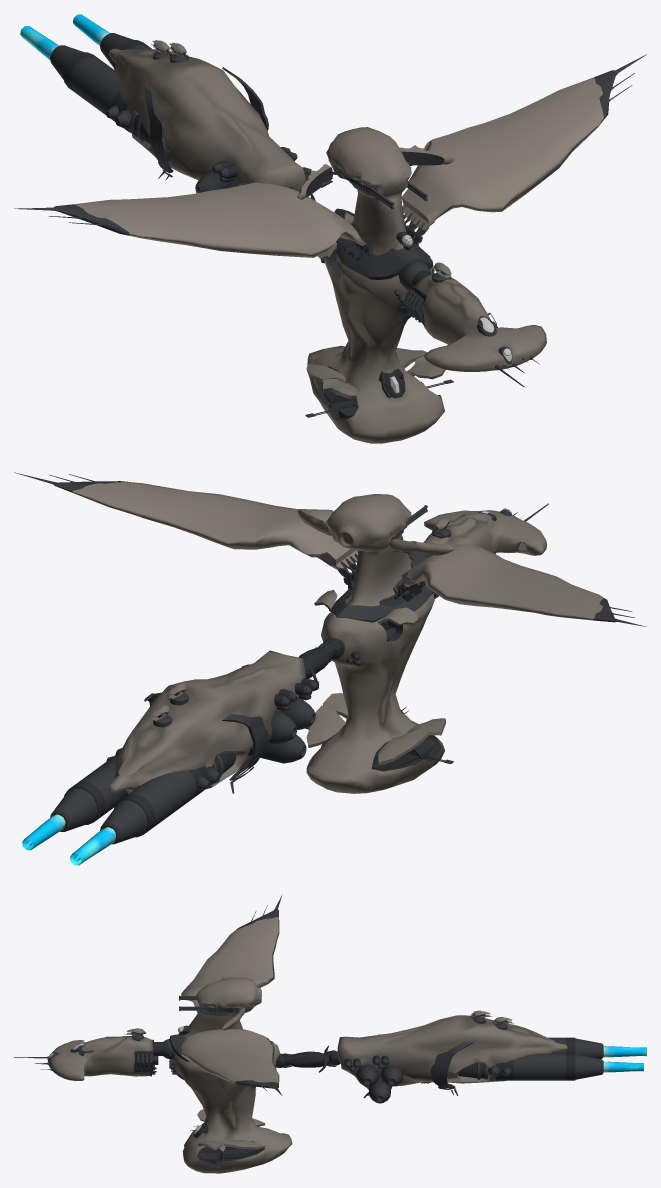
Rendered from CDR_TFA_Spirit_LowRes.fbx.
3 renders of one model, top to bottom at view 1: azimuth 30°, elevation 25°; view 2: azimuth 150°, elevation 25°; view 3: azimuth 270°, elevation 25°, orthographic. The views are drawn at different scales.
Visible parts, largest first — view 1: mesh_hull, mesh_wing_left, mesh_wing_right, mesh_vfx_thrusters, mesh_door_middle_01_left, mesh_door_middle_01_right; view 2: mesh_hull, mesh_wing_left, mesh_wing_right, mesh_vfx_thrusters, mesh_door_bottom_02_left, mesh_door_bottom_02_right, mesh_door_middle_01_right; view 3: mesh_hull, mesh_wing_left, mesh_wing_right, mesh_vfx_thrusters.
Boxes of the visible parts, x1=… form: mesh_hull: x1=50, y1=33, x2=546, y2=443; mesh_wing_left: x1=401, y1=54, x2=646, y2=230; mesh_wing_right: x1=14, y1=182, x2=365, y2=257; mesh_vfx_thrusters: x1=20, y1=14, x2=109, y2=59; mesh_door_middle_01_left: x1=399, y1=145, x2=454, y2=165; mesh_door_middle_01_right: x1=297, y1=164, x2=338, y2=199; mesh_hull: x1=50, y1=494, x2=548, y2=844; mesh_wing_left: x1=14, y1=472, x2=357, y2=571; mesh_wing_right: x1=401, y1=544, x2=646, y2=626; mesh_vfx_thrusters: x1=22, y1=814, x2=116, y2=865; mesh_door_bottom_02_left: x1=306, y1=705, x2=345, y2=747; mesh_door_bottom_02_right: x1=378, y1=729, x2=429, y2=765; mesh_door_middle_01_right: x1=389, y1=539, x2=454, y2=555; mesh_hull: x1=14, y1=977, x2=603, y2=1173; mesh_wing_left: x1=181, y1=1028, x2=282, y2=1095; mesh_wing_right: x1=181, y1=895, x2=281, y2=1012; mesh_vfx_thrusters: x1=603, y1=1046, x2=646, y2=1072.
Size of the model in its own units: 808 by 351 by 1074.
